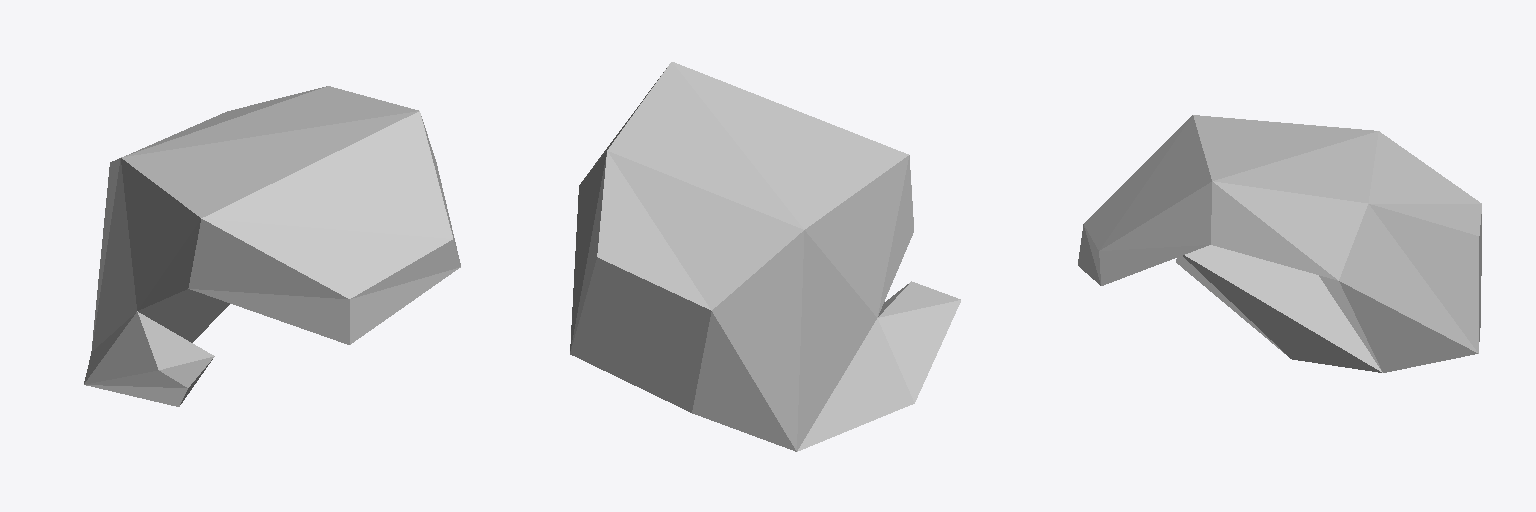
File: Mano1.obj
3 renders of one model, left to right at view 1: azimuth 30°, elevation 25°; view 2: azimuth 150°, elevation 25°; view 3: azimuth 270°, elevation 25°, orthographic.
Parts seen in each view (by area): view 1: polySurface3 polySurface2 pasted__ob_0601D8F8 group; view 2: polySurface3 polySurface2 pasted__ob_0601D8F8 group; view 3: polySurface3 polySurface2 pasted__ob_0601D8F8 group.
Part boxes in pixels (bbox=[...]): polySurface3 polySurface2 pasted__ob_0601D8F8 group: bbox=[84, 86, 460, 406]; polySurface3 polySurface2 pasted__ob_0601D8F8 group: bbox=[570, 62, 960, 451]; polySurface3 polySurface2 pasted__ob_0601D8F8 group: bbox=[1078, 115, 1481, 372].
Size of the model in its own units: 0.209 by 0.1729 by 0.2295.